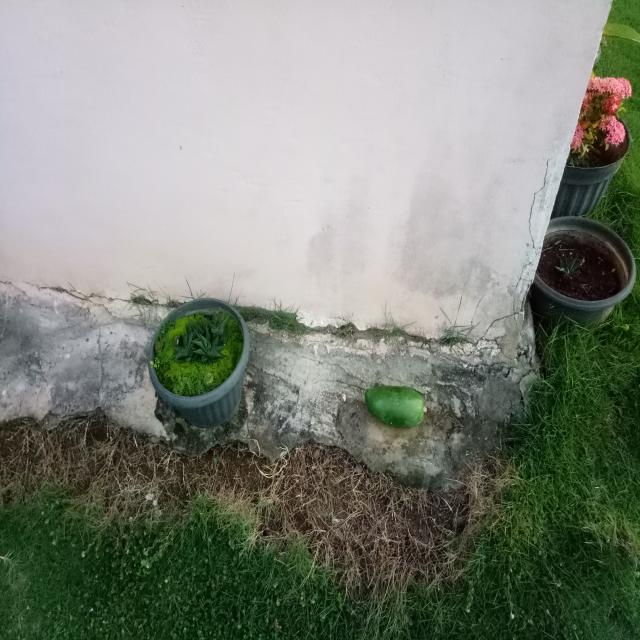Pepaya unrippen: (359, 374, 432, 433)
